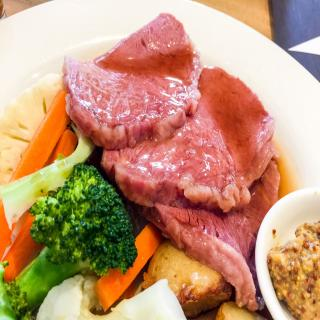Broccoli: (15, 162, 136, 316), (0, 260, 37, 320)
